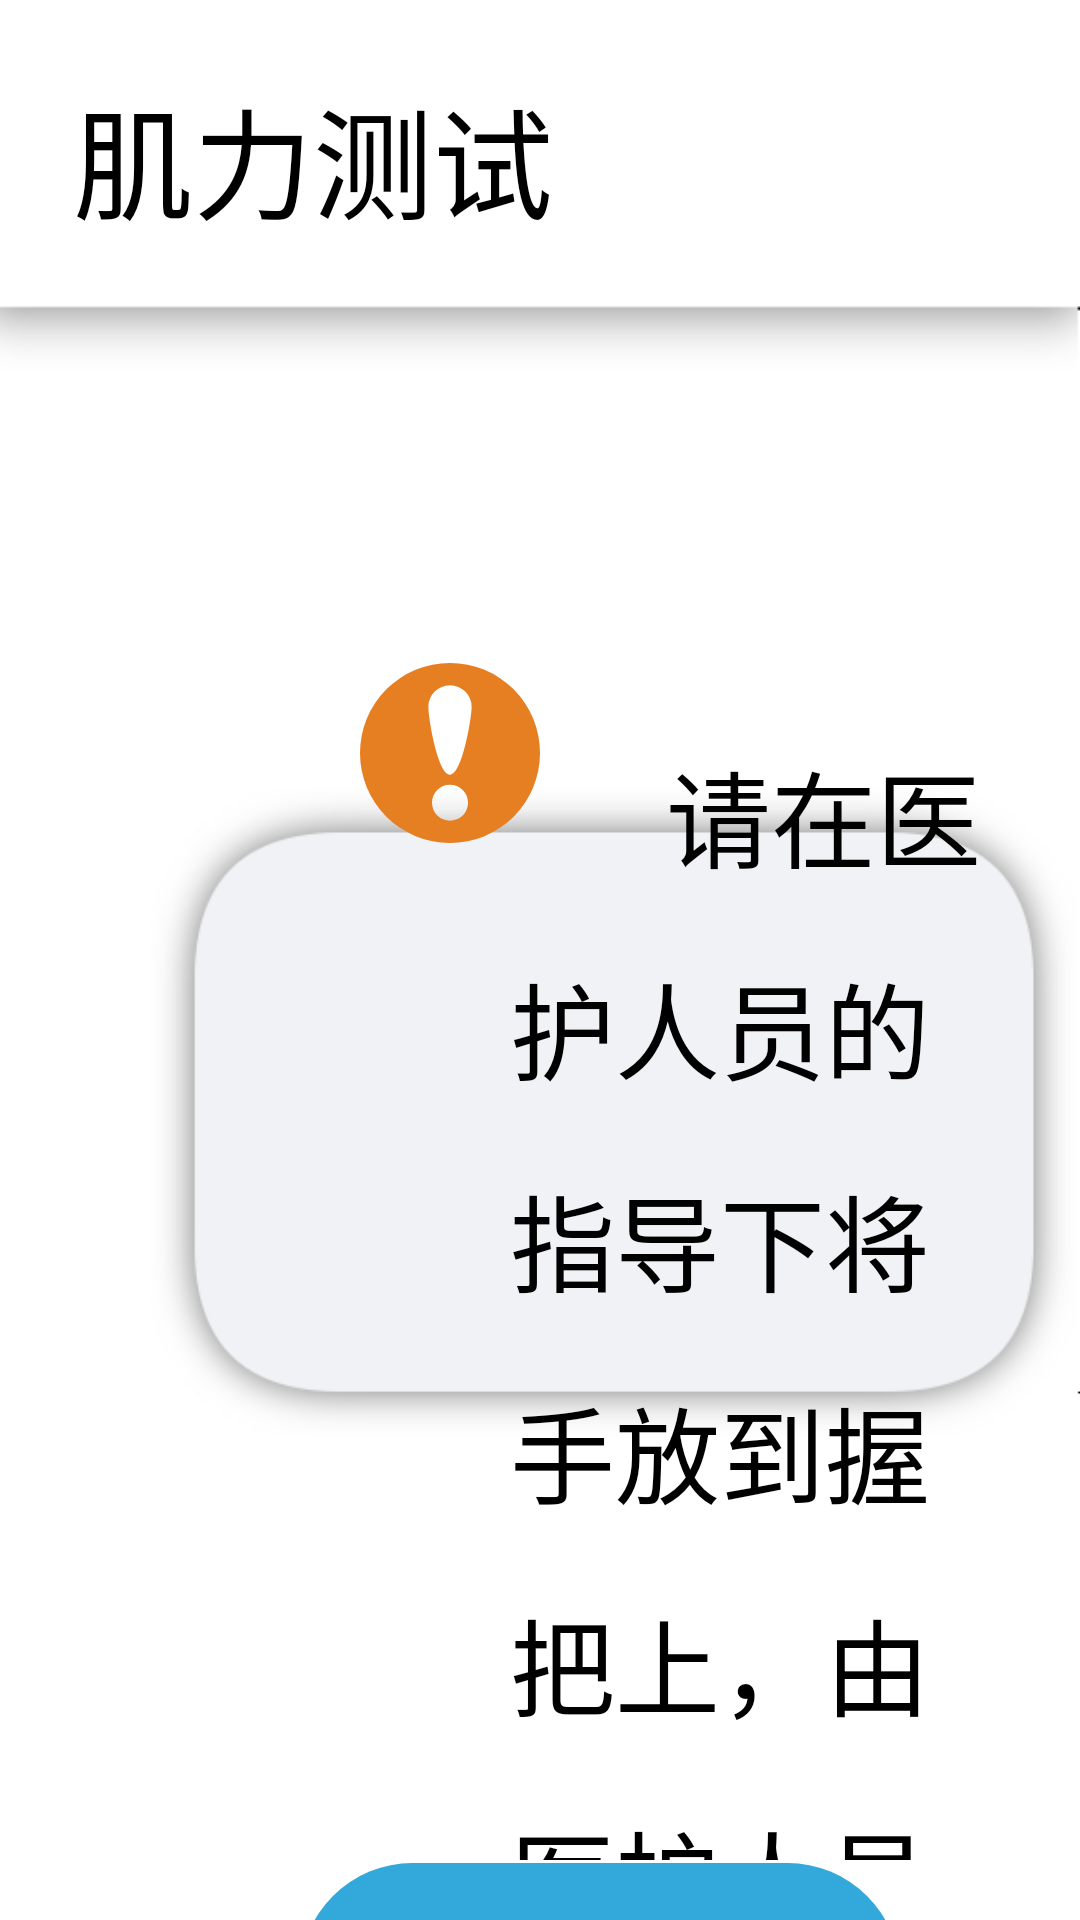

Where icons sit on this 1080 x 1920 app screen, as (x1, y1, x2, y2):
attetion: (360, 663, 540, 843)
